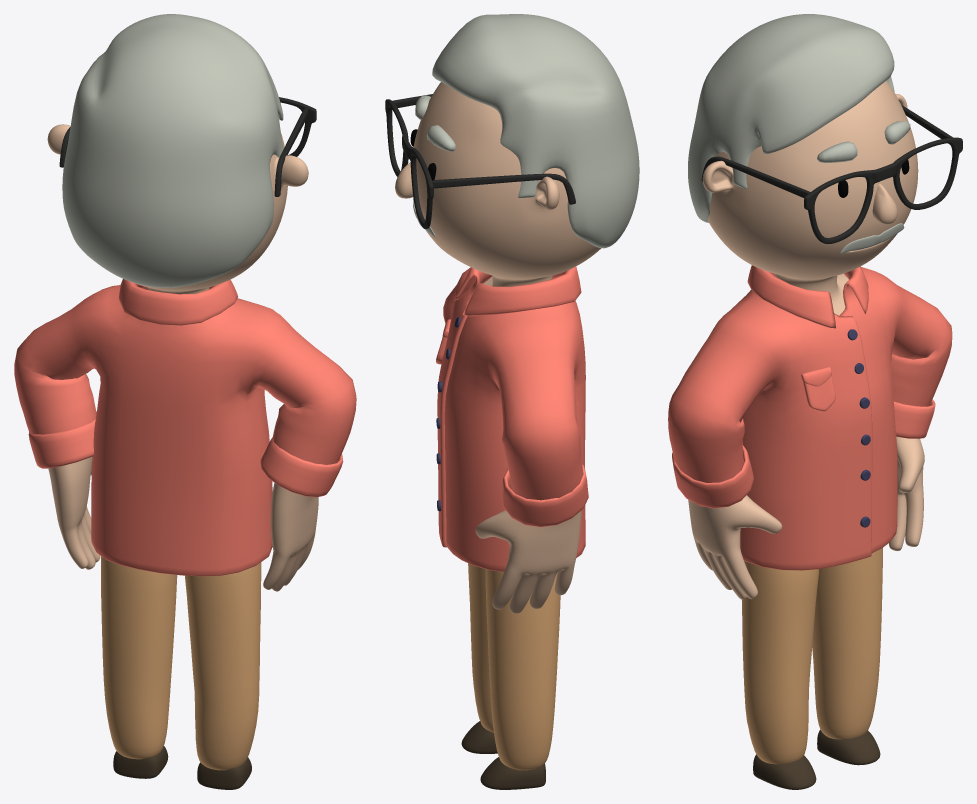
Rendered from chef_projet.gltf.
3 views of the same model, side by side, from view 1: azimuth 30°, elevation 25°; view 2: azimuth 150°, elevation 25°; view 3: azimuth 270°, elevation 25° (orthographic).
Parts seen in each view (by area): view 1: Shirt, Hair_12, Cube.016, Cube.015, body, eyeglass_4, Cube.017, Cube.018; view 2: Shirt, Hair_12, body, Cube.015, eyeglass_4, Cube.016, Cube.018, Cube.017, Eyebrow.009, nose; view 3: Shirt, body, Hair_12, Cube.016, Cube.015, eyeglass_4, Cube.017, Cube.018, Eyebrow.009, nose.
Part boxes in pixels (x1=…): Shirt: x1=14, y1=279, x2=356, y2=576; Hair_12: x1=62, y1=14, x2=283, y2=287; Cube.016: x1=185, y1=562, x2=261, y2=770; Cube.015: x1=101, y1=556, x2=177, y2=759; body: x1=47, y1=124, x2=318, y2=591; eyeglass_4: x1=59, y1=97, x2=316, y2=196; Cube.017: x1=197, y1=757, x2=251, y2=789; Cube.018: x1=113, y1=746, x2=168, y2=778; Shirt: x1=436, y1=266, x2=588, y2=571; Hair_12: x1=413, y1=14, x2=639, y2=248; body: x1=413, y1=82, x2=601, y2=613; Cube.015: x1=485, y1=569, x2=560, y2=770; eyeglass_4: x1=385, y1=94, x2=575, y2=228; Cube.016: x1=468, y1=563, x2=493, y2=732; Cube.018: x1=480, y1=757, x2=545, y2=789; Cube.017: x1=461, y1=721, x2=497, y2=753; Eyebrow.009: x1=415, y1=95, x2=455, y2=151; nose: x1=395, y1=162, x2=413, y2=198; Shirt: x1=668, y1=265, x2=952, y2=570; body: x1=688, y1=80, x2=924, y2=599; Hair_12: x1=688, y1=14, x2=904, y2=253; Cube.016: x1=742, y1=560, x2=818, y2=764; Cube.015: x1=812, y1=548, x2=882, y2=739; eyeglass_4: x1=701, y1=104, x2=962, y2=243; Cube.017: x1=753, y1=754, x2=816, y2=789; Cube.018: x1=817, y1=729, x2=880, y2=765; Eyebrow.009: x1=817, y1=121, x2=910, y2=162; nose: x1=872, y1=184, x2=897, y2=224.
Bounding box in the file's own units: 4.25 × 12.42 × 4.49.
